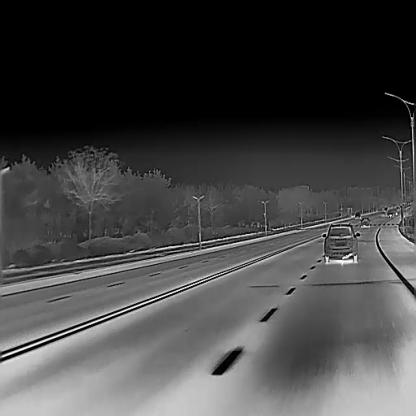car: (322, 223, 360, 262), (360, 217, 371, 227), (355, 210, 359, 217), (388, 212, 392, 217), (381, 212, 385, 216)
